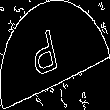P_S: (38, 25, 72, 85)
